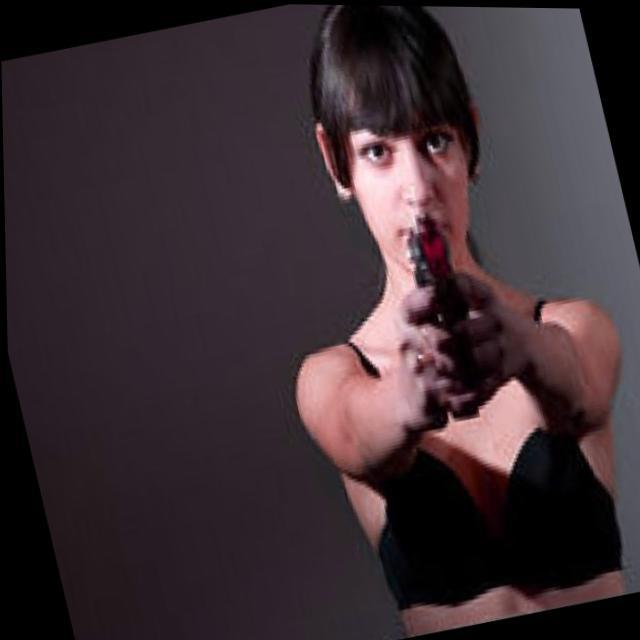weapon: (392, 207, 492, 420)
